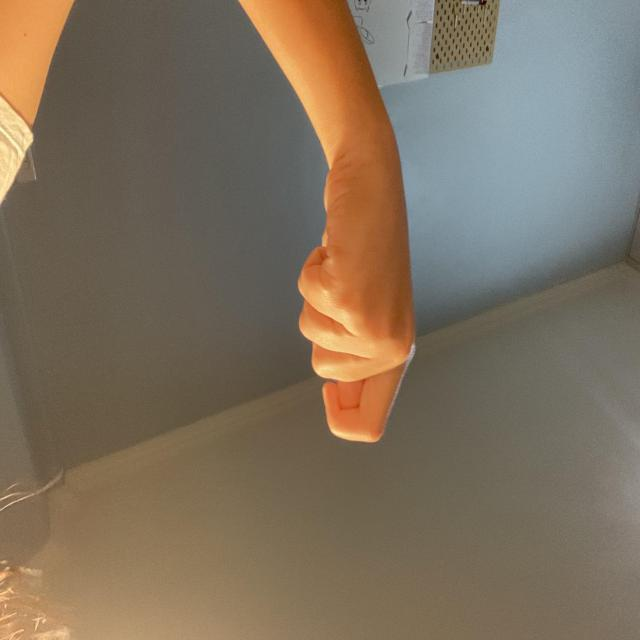T: (223, 197, 343, 493)
